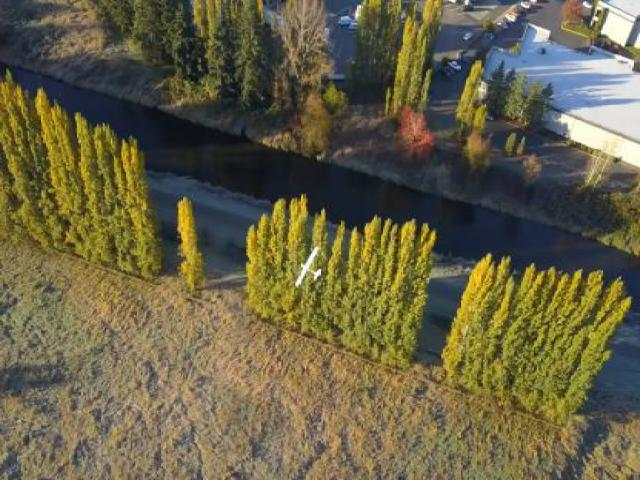uav: (282, 238, 333, 293)
